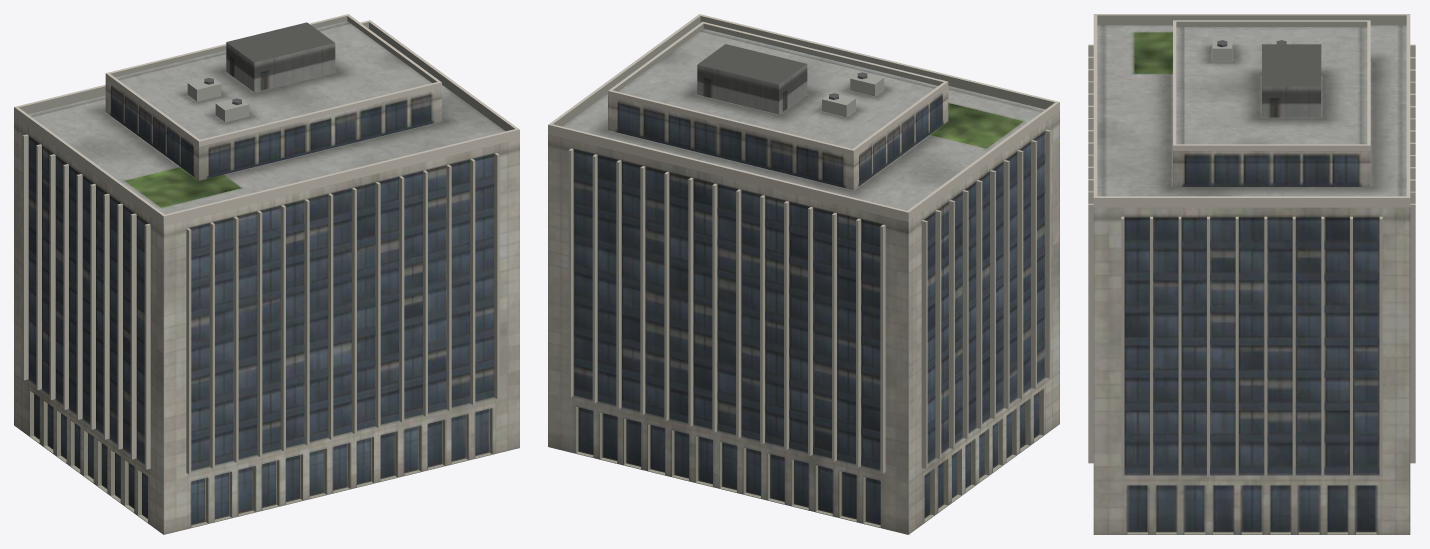
The model's file is dc_office_glass_a.glb.
The picture shows the model from 3 angles, left to right: view 1: azimuth 30°, elevation 25°; view 2: azimuth 150°, elevation 25°; view 3: azimuth 270°, elevation 25°; orthographic projection. The views are drawn at different scales.
Visible parts, largest first — view 1: dc_office_glass_a; view 2: dc_office_glass_a; view 3: dc_office_glass_a.
Boxes of the visible parts, bbox=[...] form: dc_office_glass_a: bbox=[14, 14, 519, 534]; dc_office_glass_a: bbox=[548, 14, 1059, 534]; dc_office_glass_a: bbox=[1088, 14, 1415, 534].
Size of the model in its own units: 45.1 by 44 by 33.1.
1 material, 1 textured.
